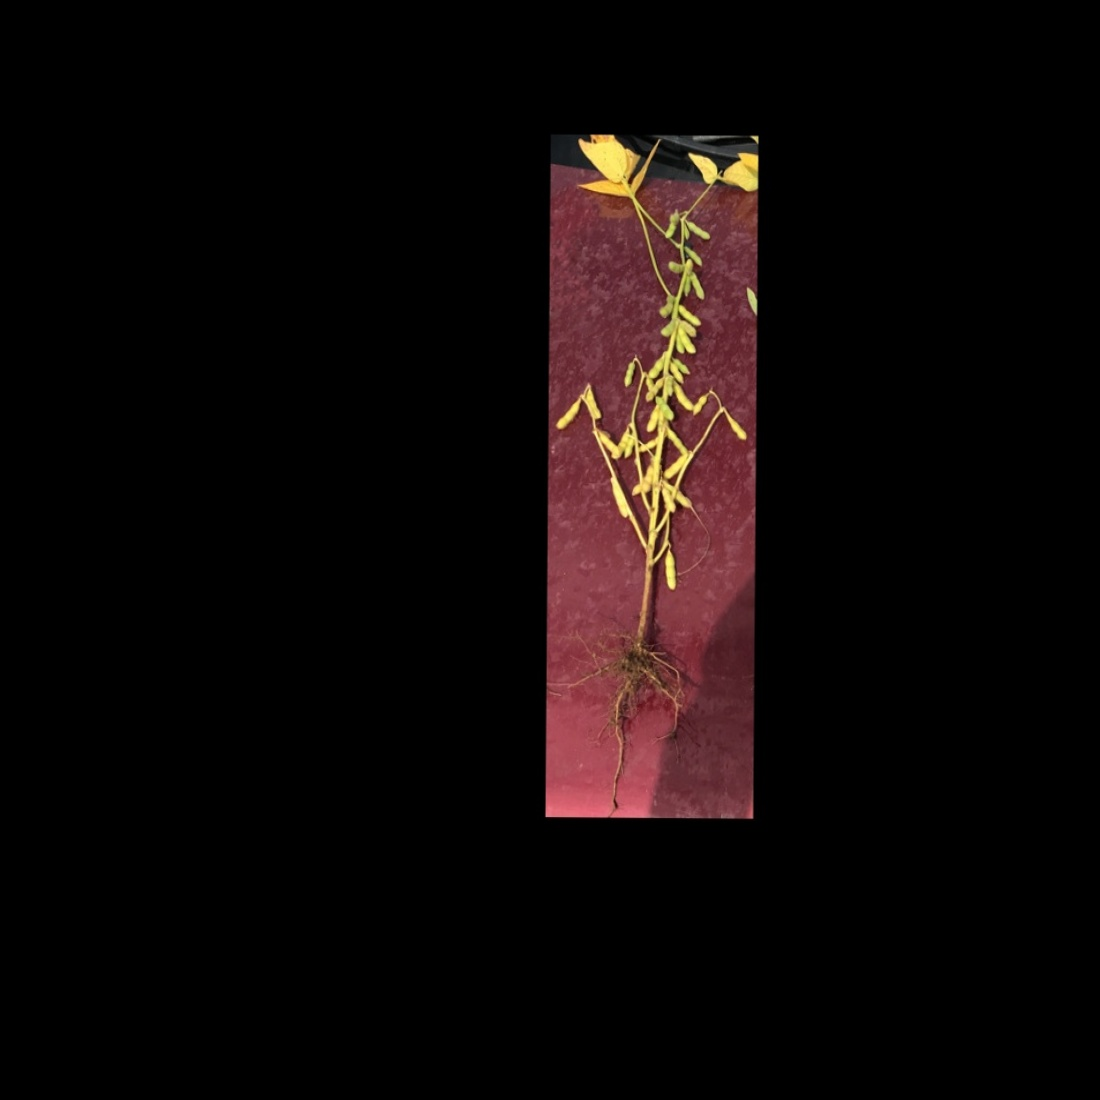pod: (555, 395, 582, 432), (682, 216, 713, 245), (582, 383, 605, 422), (595, 427, 624, 459), (724, 410, 749, 443), (659, 451, 687, 480), (664, 426, 689, 457), (661, 548, 679, 591), (609, 426, 630, 463), (676, 324, 698, 358), (687, 269, 707, 305), (675, 303, 701, 330), (643, 401, 663, 436), (673, 379, 694, 412), (632, 436, 664, 456), (688, 391, 712, 417), (682, 243, 705, 270), (645, 351, 666, 380), (620, 358, 636, 392), (665, 258, 688, 279)
soy: (551, 145, 750, 803)
